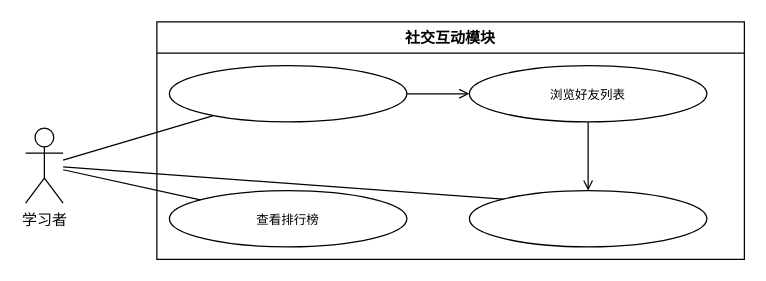
Image size: 766x281. Some labels were removed from this diagram. Each missing label, with the centre of its shape:
搜索/添加好友: point 287,93
查看好友动态: point 587,218
